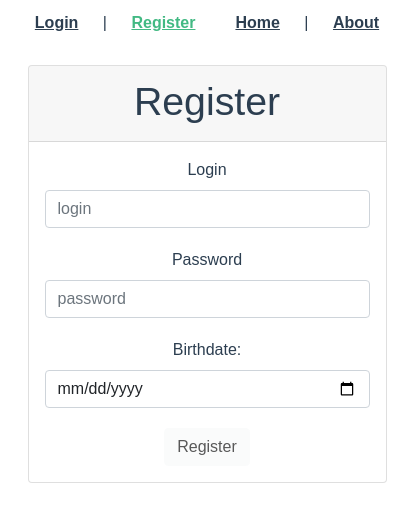
Tests the Registration page › tries to register with existed login name
Step 1. Type "admin" into the field named "login" → (208, 209), box [45,190,370,228]
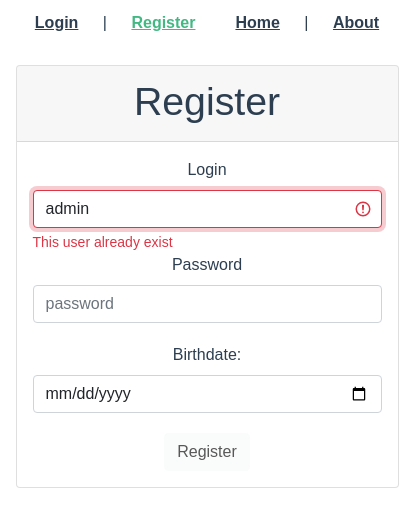
Check: the text "This user already exist" is shown, box [32,234,173,250]
